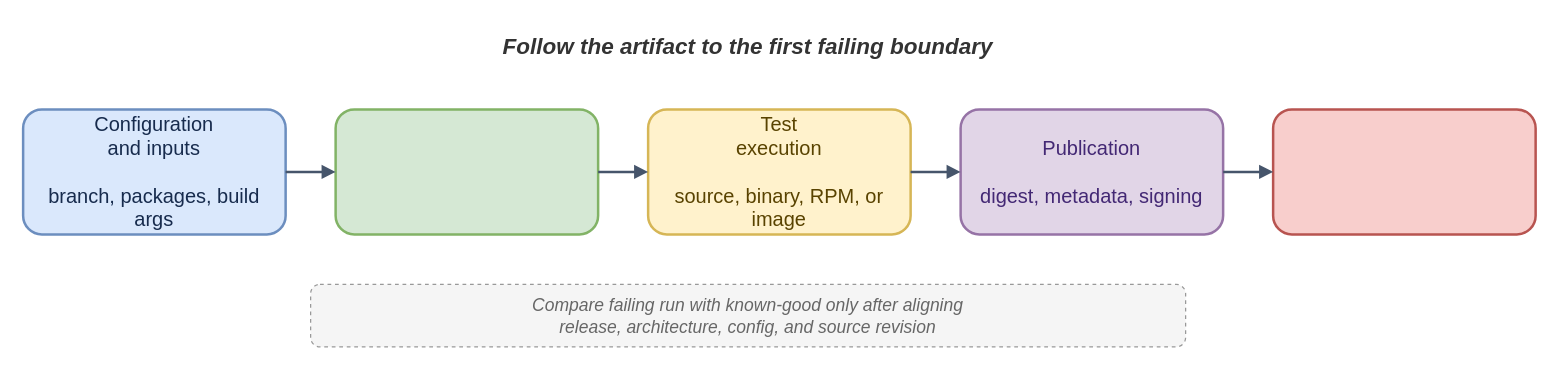
The diagram is 1558 pixels wide and 369 high, and some of its shapes have lost their labels. The shapes that lost their labels are listed below. From the top down, each one's centre as x and y in pixels, then its label:
At point (466, 171): "Compose / image build revision, digest, logs".
At point (1403, 171): "Installed system OS version, update path".
